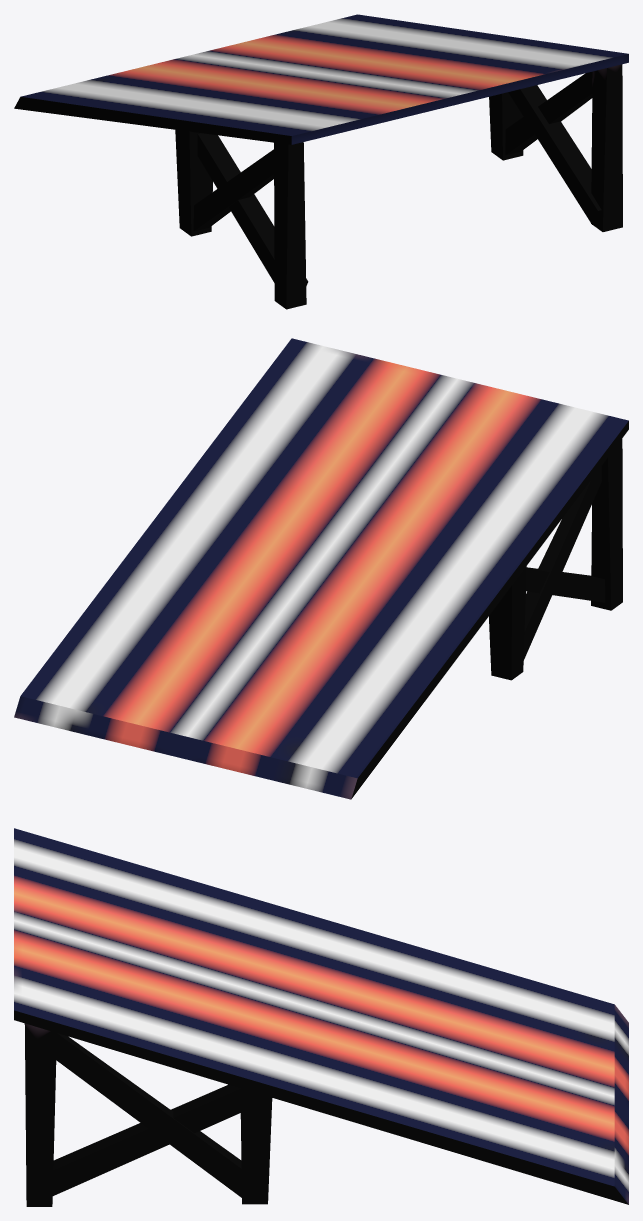
Rendered from Ramp.fbx.
3 views of the same model, one above another, from view 1: azimuth 30°, elevation 25°; view 2: azimuth 150°, elevation 25°; view 3: azimuth 270°, elevation 25° (orthographic). The views are drawn at different scales.
Parts seen in each view (by area): view 1: ramp_small; view 2: ramp_small; view 3: ramp_small.
Boxes of the visible parts, <box> form: ramp_small: <box>14,14,628,309</box>; ramp_small: <box>14,338,628,799</box>; ramp_small: <box>14,828,628,1206</box>.
Bounding box in the file's own units: 400 × 201 × 571.
